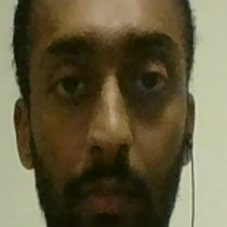awake: (37, 20, 182, 221)
